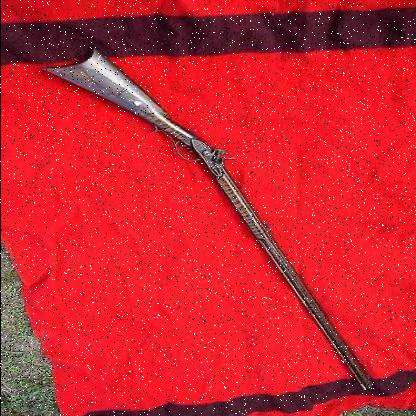rifle: (24, 42, 386, 402)
